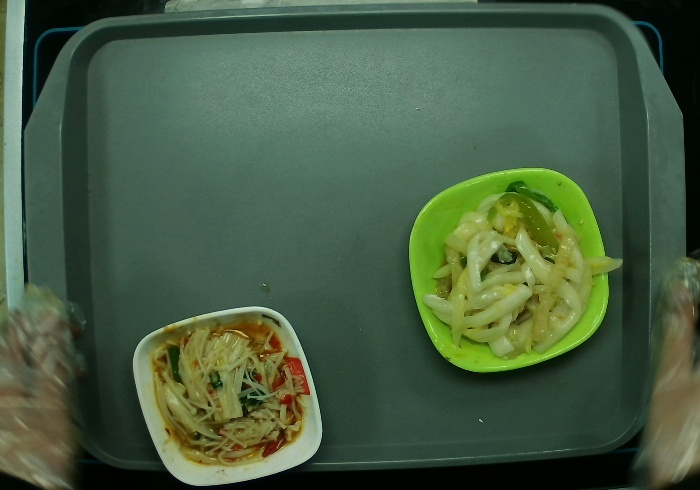SHKJ-Bai_Se_Xiao_Fang_Die: (133, 306, 326, 483)
SHKJ-Lv_Se_Cai_Die: (408, 168, 609, 374)
